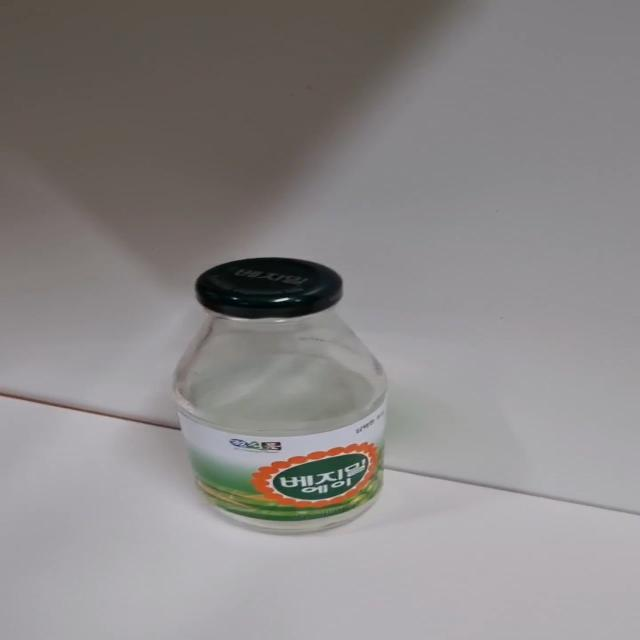Glass: (172, 256, 400, 536)
